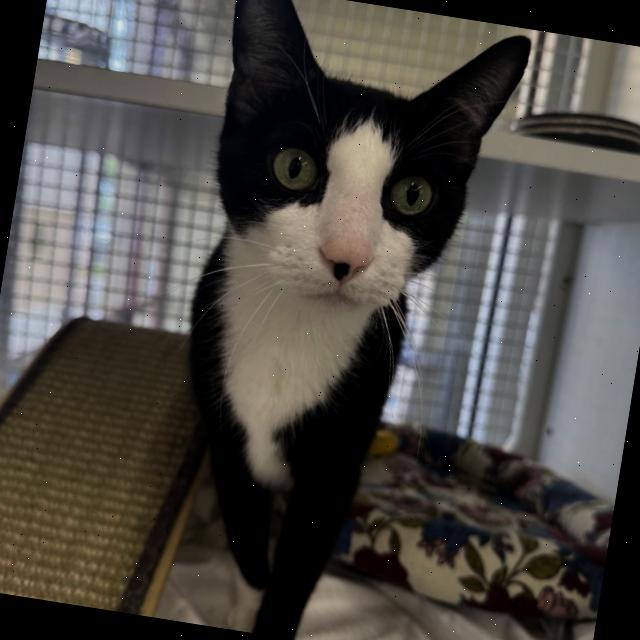domestic_short_hair_cat: (148, 0, 543, 363)
